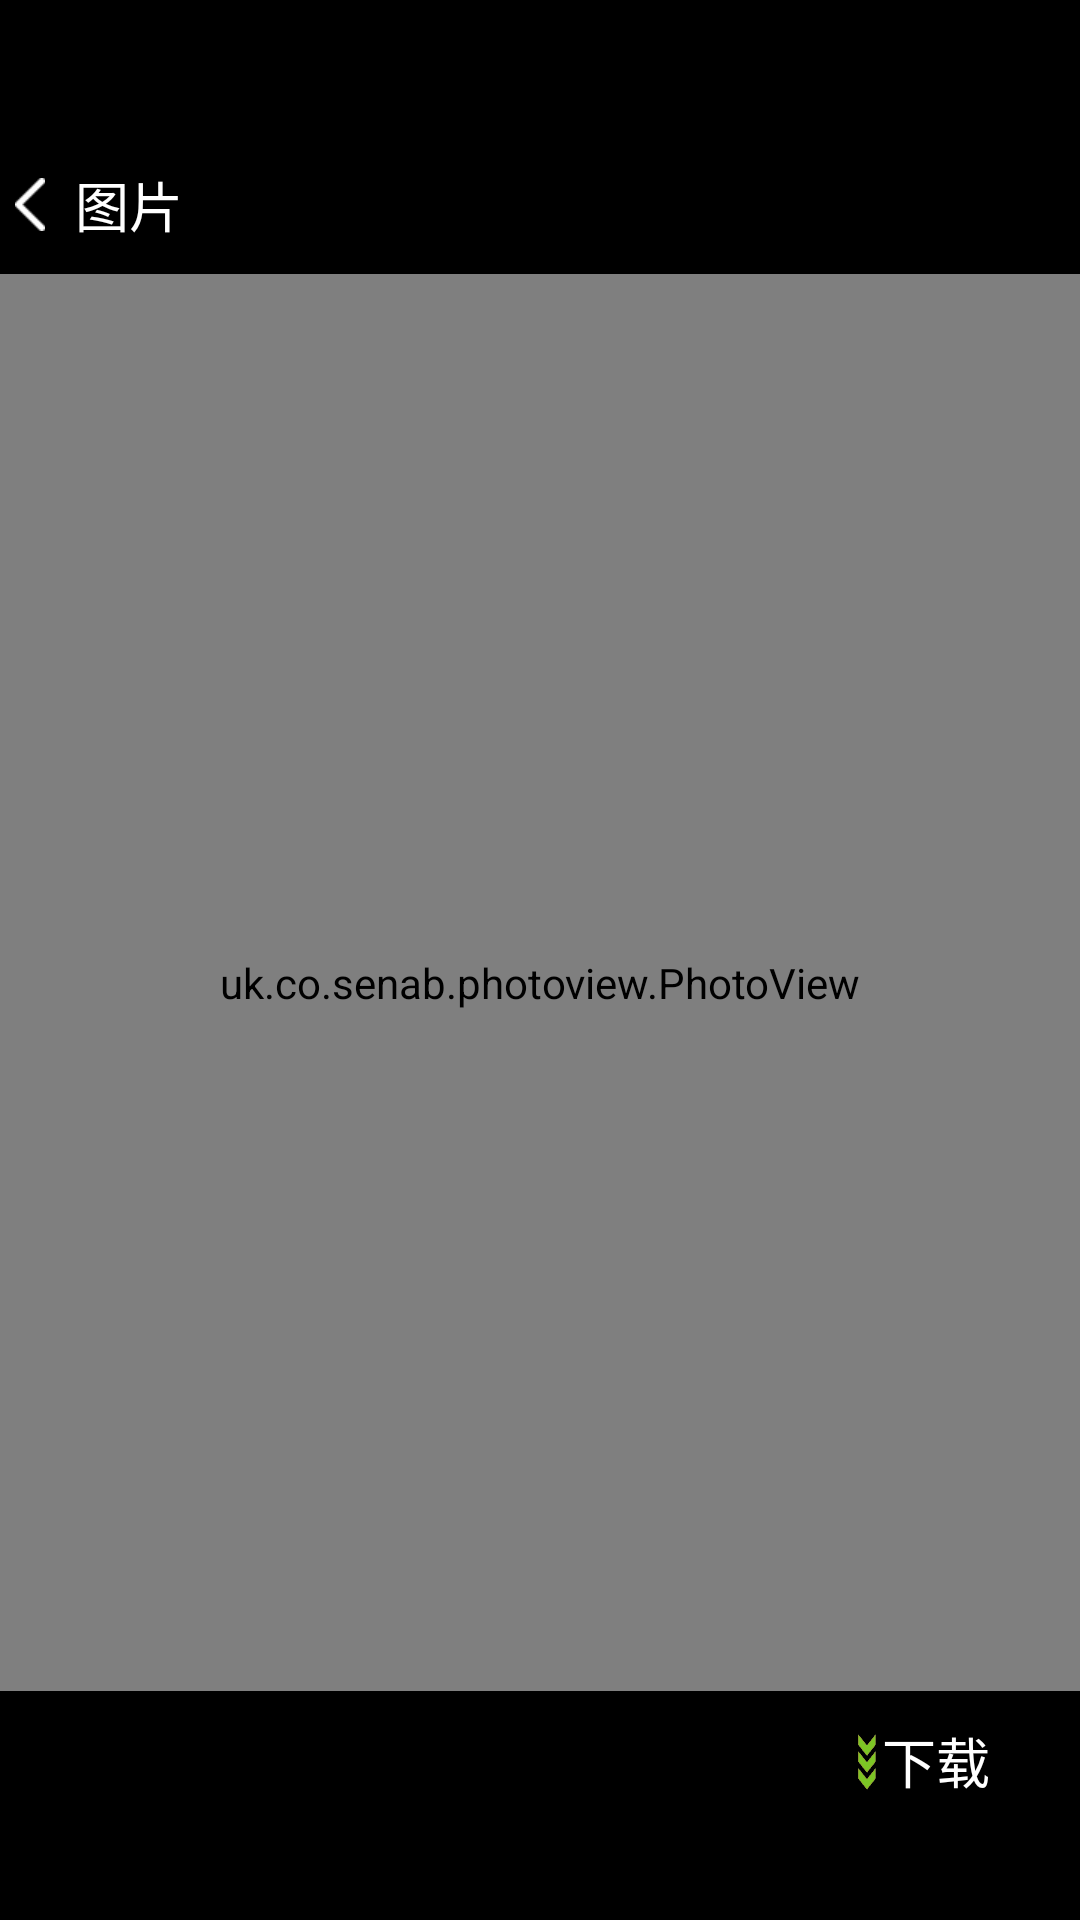

Named icons in this screenshot (1080 x 1920) and their bounding boxes, (x1, y1, x2, y2):
back: (15, 178, 45, 231)
